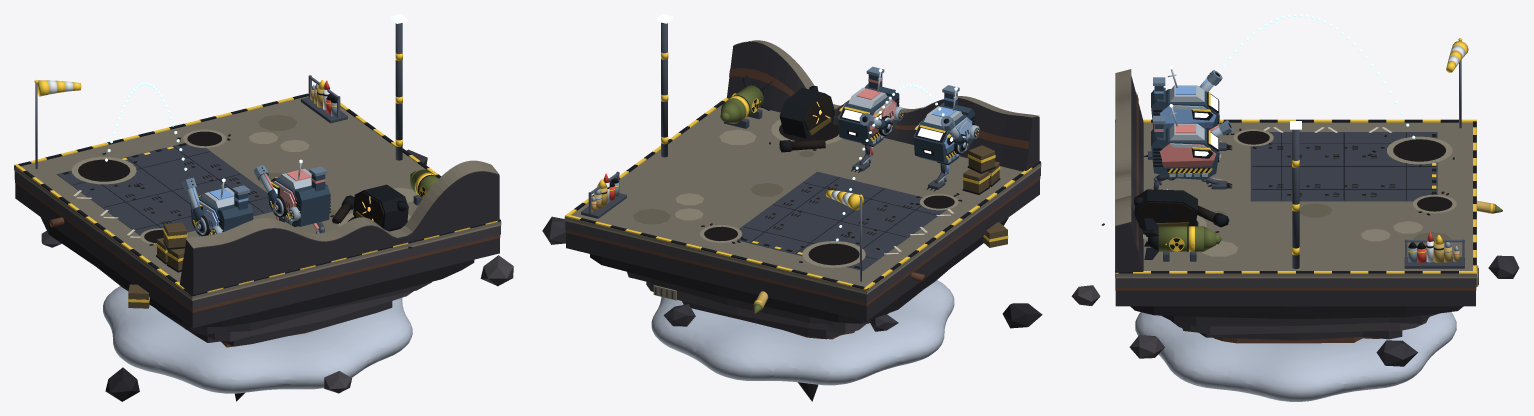
File: lobbots-island.glb
3 views of the same model, side by side, from view 1: azimuth 30°, elevation 25°; view 2: azimuth 150°, elevation 25°; view 3: azimuth 270°, elevation 25° (orthographic). The views are drawn at different scales.
Visible parts, largest first — view 1: Proving ground matte, Proving ground metal, Proving ground satin; view 2: Proving ground matte, Proving ground metal, Proving ground satin; view 3: Proving ground matte, Proving ground metal, Proving ground satin.
Boxes of the visible parts, x1,y1,x2,y2 form: Proving ground matte: (14, 96, 513, 401); Proving ground metal: (14, 23, 500, 296); Proving ground satin: (14, 53, 497, 302); Proving ground matte: (542, 40, 1042, 401); Proving ground metal: (574, 22, 1040, 313); Proving ground satin: (565, 52, 1032, 304); Proving ground matte: (1071, 69, 1519, 401); Proving ground metal: (1115, 60, 1502, 273); Proving ground satin: (1115, 38, 1493, 273).
Bounding box in the file's own units: 15.94 × 13.02 × 14.85.
